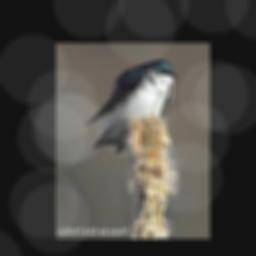Swallow: (84, 59, 180, 153)
